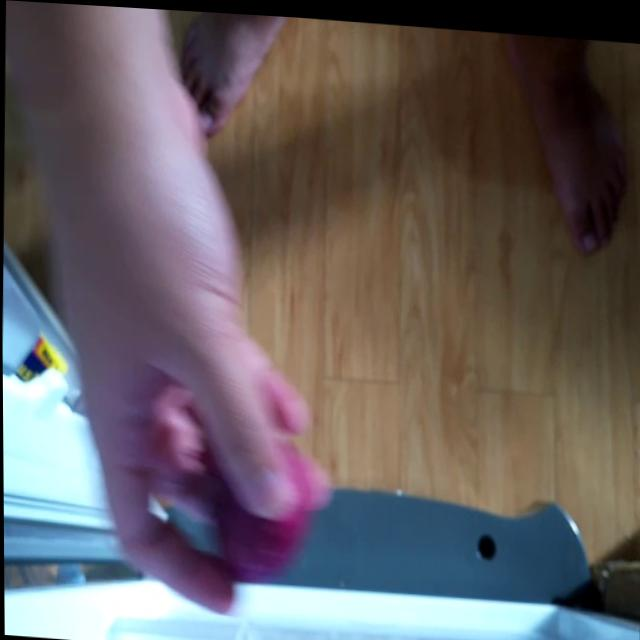onion: (208, 422, 318, 575)
